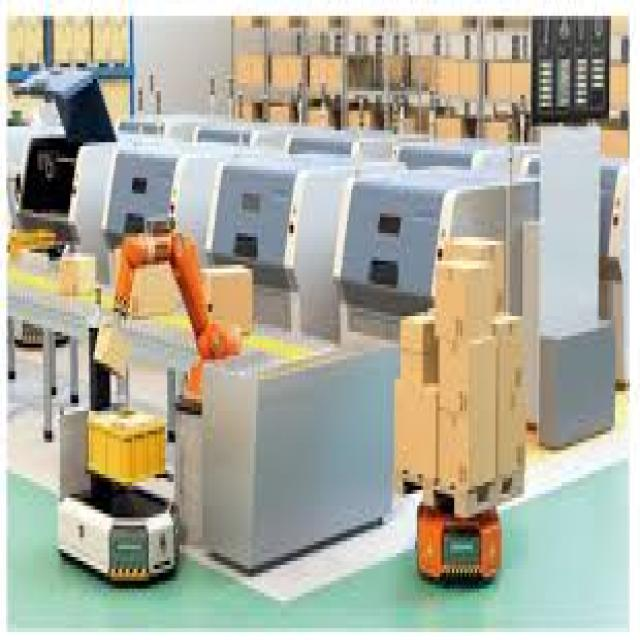Robotic-arm: (108, 209, 242, 401)
